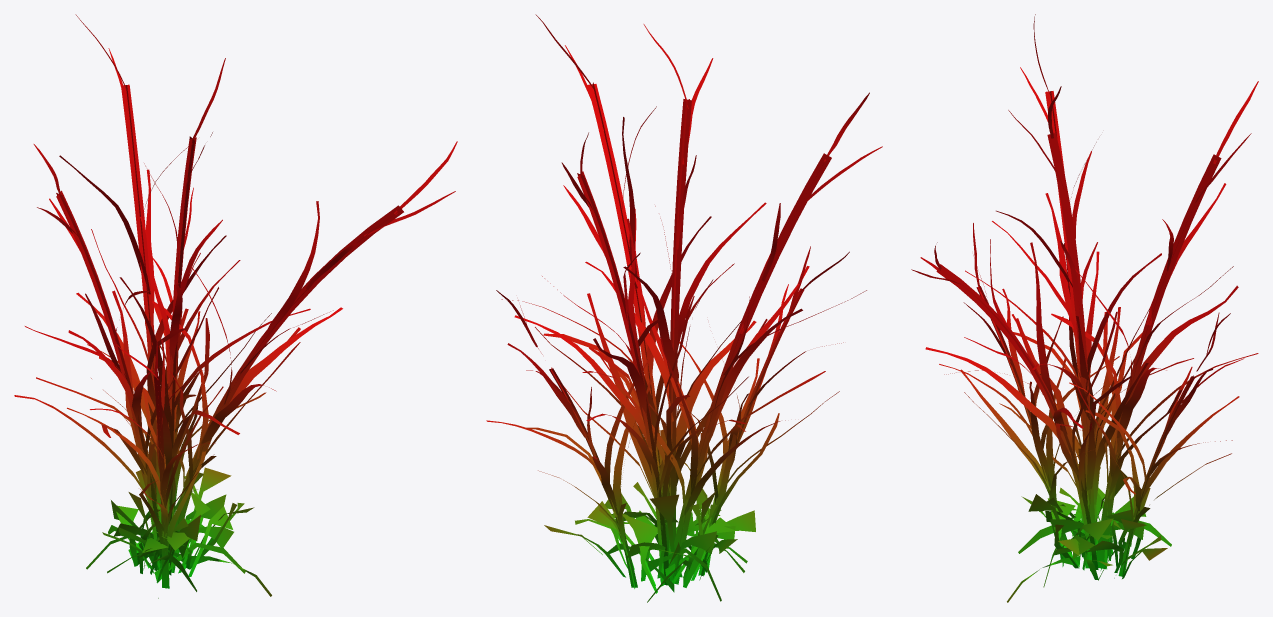
Rendered from Var4_LOD1.fbx.
The picture shows the model from 3 angles, left to right: view 1: azimuth 30°, elevation 25°; view 2: azimuth 150°, elevation 25°; view 3: azimuth 270°, elevation 25°; orthographic projection. The views are drawn at different scales.
Parts seen in each view (by area): view 1: _5887_Var4_LOD1; view 2: _5887_Var4_LOD1; view 3: _5887_Var4_LOD1.
Boxes of the visible parts, x1,y1,x2,y2 form: _5887_Var4_LOD1: (14,14,457,598); _5887_Var4_LOD1: (486,14,882,602); _5887_Var4_LOD1: (911,14,1258,602).
Size of the model in its own units: 25.32 by 33.43 by 20.74.
